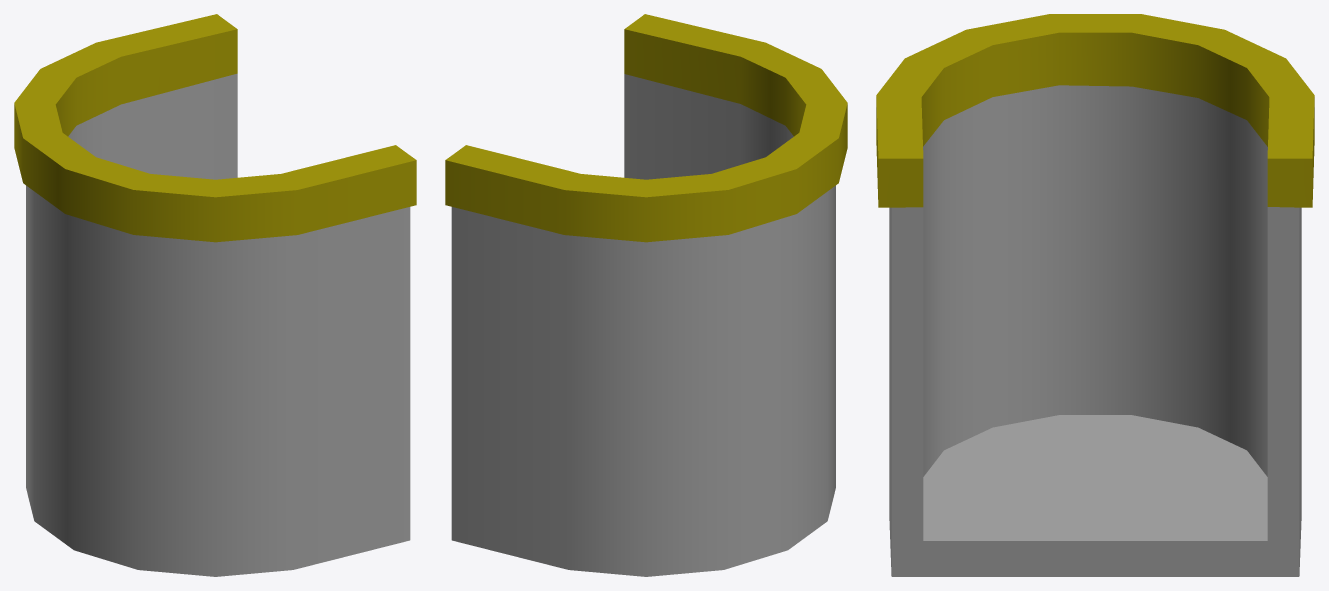
Rendered from buca mezza bordata.fbx.
3 renders of one model, left to right at view 1: azimuth 30°, elevation 25°; view 2: azimuth 150°, elevation 25°; view 3: azimuth 270°, elevation 25°, orthographic. The views are drawn at different scales.
Visible parts, largest first — view 1: pCylinder4; view 2: pCylinder4; view 3: pCylinder4.
Boxes of the visible parts, left/top/right/bottom form: pCylinder4: left=14, top=14, right=416, bottom=576; pCylinder4: left=445, top=14, right=847, bottom=576; pCylinder4: left=876, top=14, right=1314, bottom=576.
Bounding box in the file's own units: 5.28 × 7.11 × 6.75.
